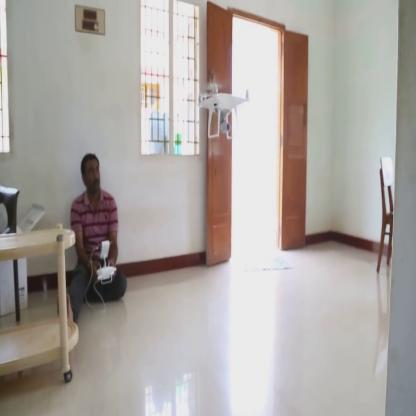drone: (192, 69, 252, 148)
